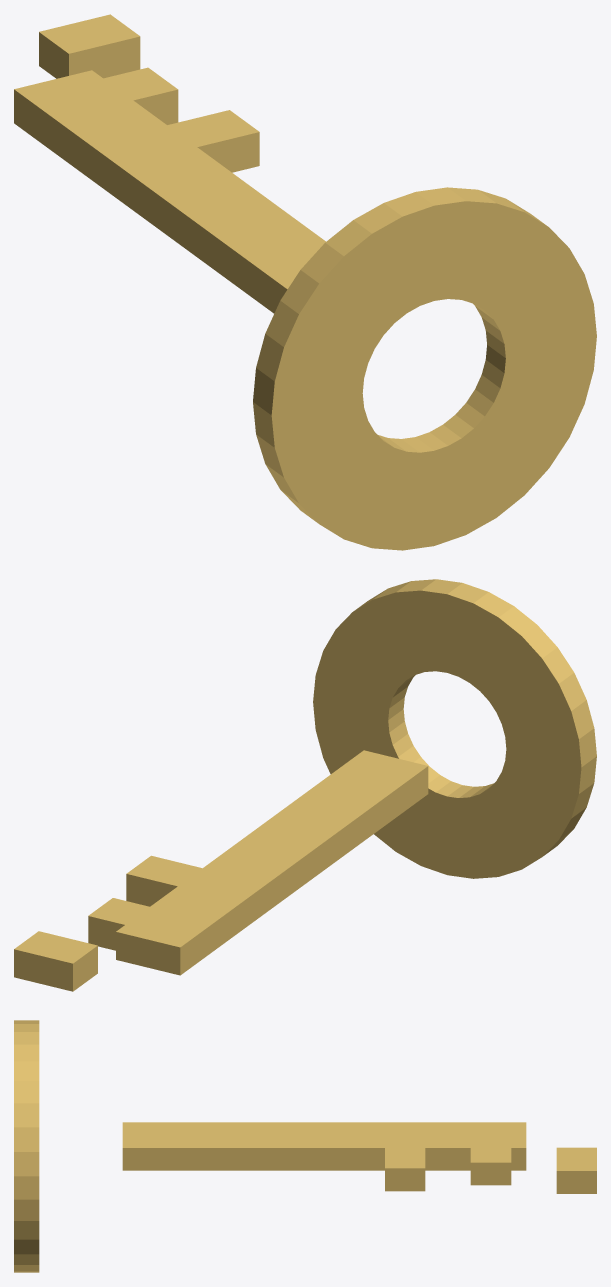
File: HouseKey.fbx
3 renders of one model, top to bottom at view 1: azimuth 30°, elevation 25°; view 2: azimuth 150°, elevation 25°; view 3: azimuth 270°, elevation 25°, orthographic. The views are drawn at different scales.
Visible parts, largest first — view 1: HouseKey; view 2: HouseKey; view 3: HouseKey.
Part boxes in pixels (x1=…): HouseKey: x1=14, y1=14, x2=596, y2=550; HouseKey: x1=14, y1=579, x2=596, y2=991; HouseKey: x1=14, y1=1020, x2=596, y2=1272.
Size of what is drawn, in the model's own units: 2.5 by 2.5 by 5.78.
